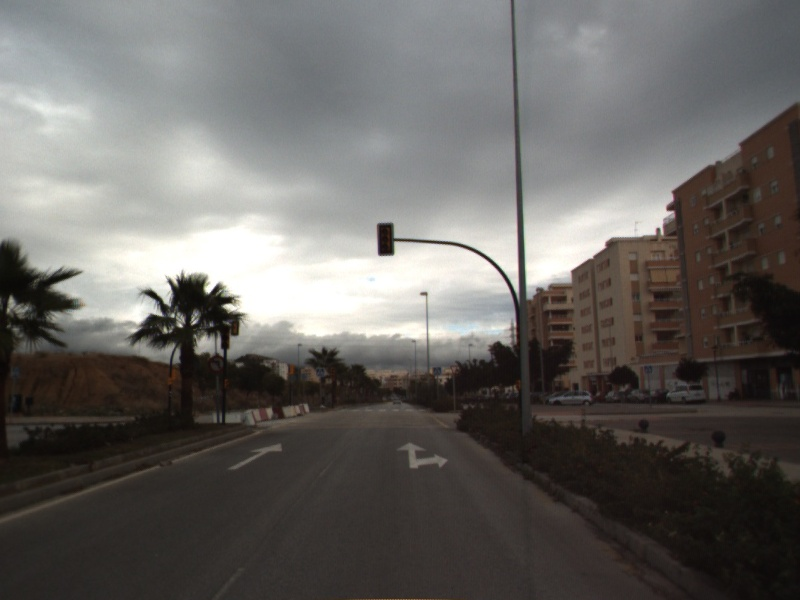STRAIGHT: (226, 441, 285, 472)
STRAIGHT_RIGHT: (395, 440, 450, 470)
